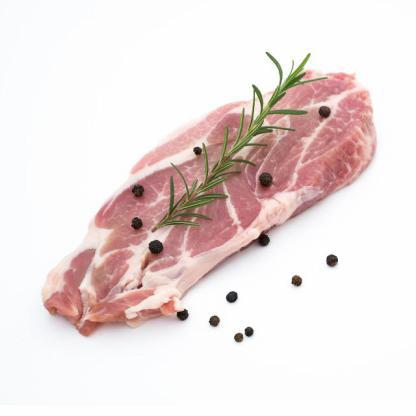pork: (66, 48, 378, 341)
